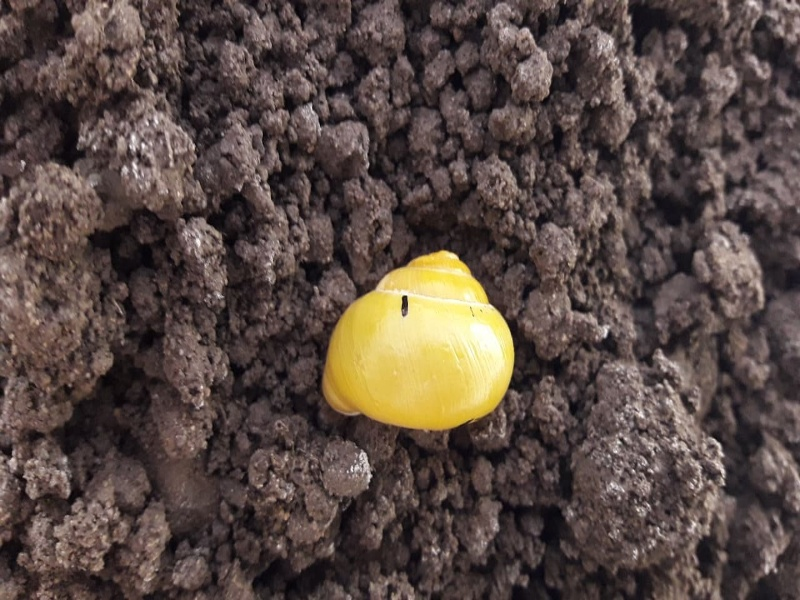snail_Y_O: (320, 245, 515, 436)
